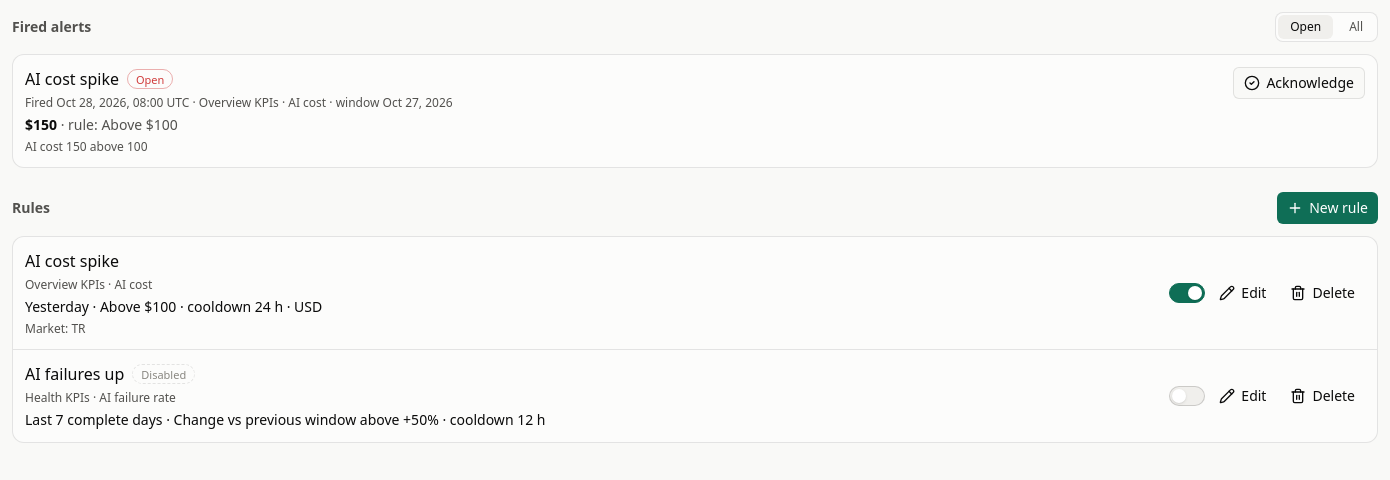
Test: Alerts page › acknowledges optimistically and rolls back when the request fails
The width and height of the screenshot is (1390, 480).
Expected: the text "AI cost spike" below "Fired alerts" is shown, x1=25 y1=68 x2=119 y2=90
Click the button "Acknowledge" at (1299, 83), box x1=1233 y1=67 x2=1365 y2=99
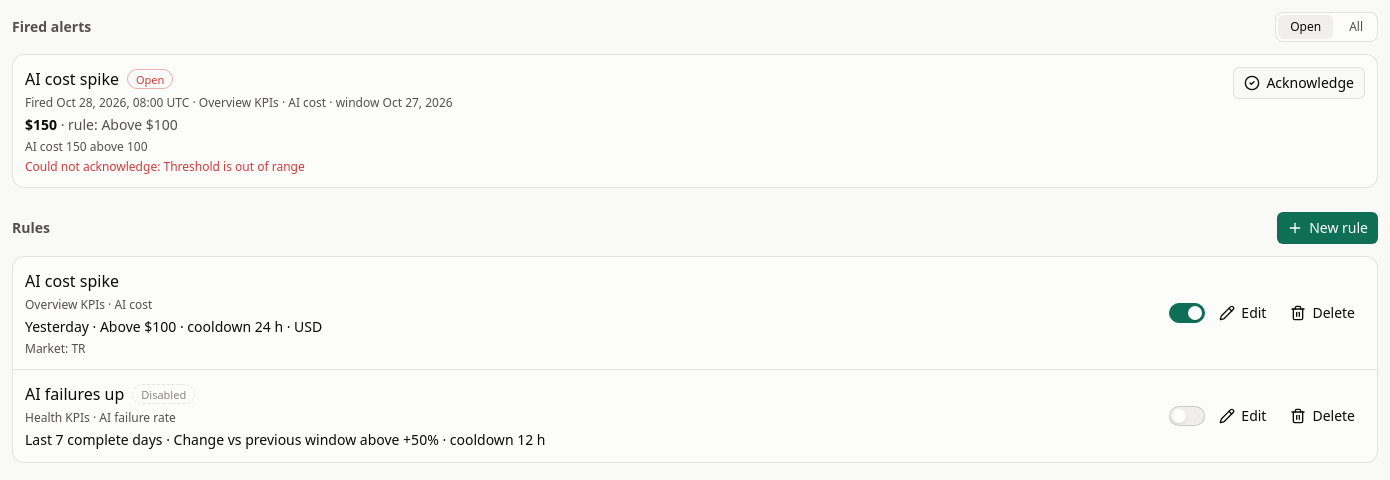
Expected: the text "AI cost spike" below "Fired alerts" is shown, x1=25 y1=68 x2=119 y2=90
Now the text "Could not acknowledge: Threshold is out of range" is shown, box x1=25 y1=158 x2=305 y2=175
Click the button "Acknowledge" at (1299, 83), box x1=1233 y1=67 x2=1365 y2=99
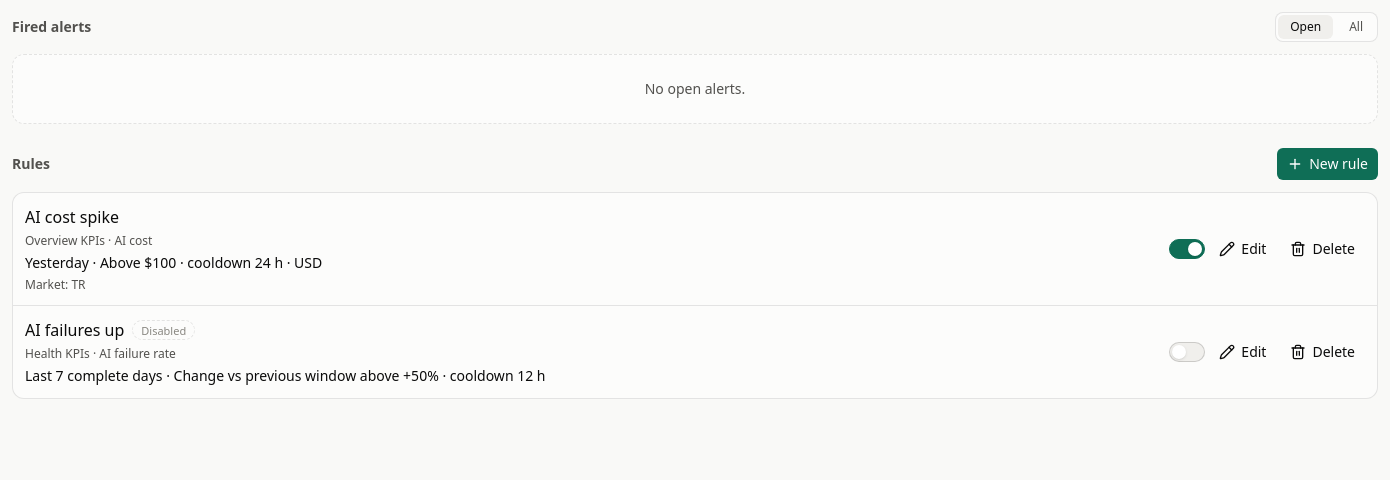
Now the text "No open alerts." is shown, box x1=12 y1=54 x2=1378 y2=124
